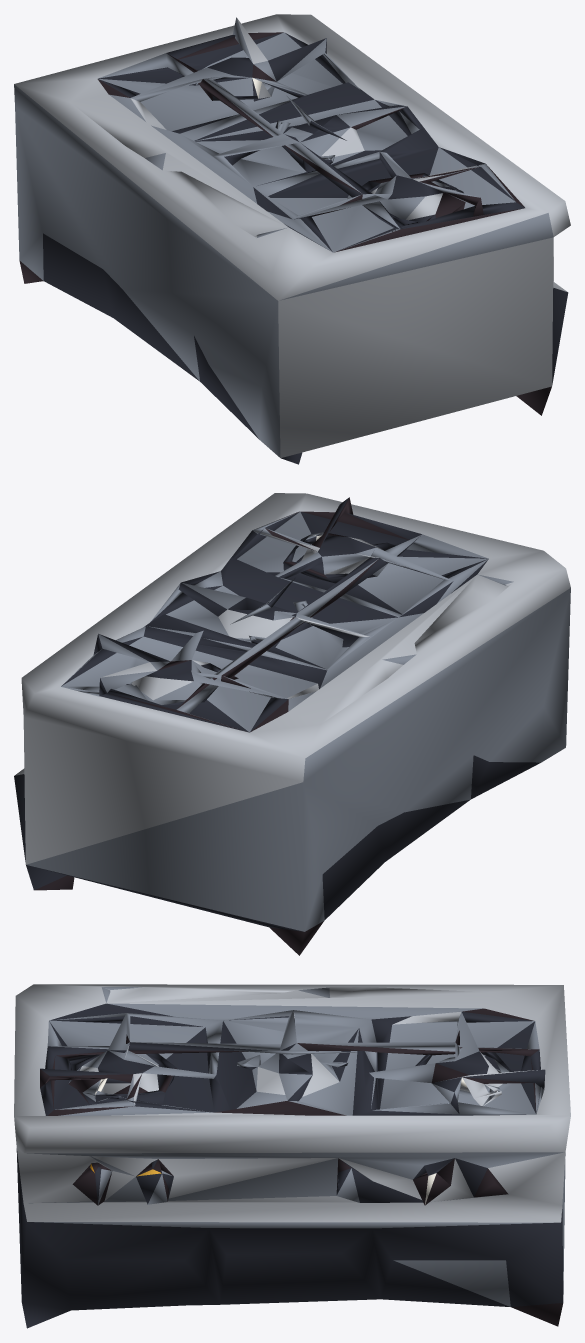
The model's file is SM_griddle_stove.fbx.
The picture shows the model from 3 angles, top to bottom: view 1: azimuth 30°, elevation 25°; view 2: azimuth 150°, elevation 25°; view 3: azimuth 270°, elevation 25°; orthographic projection. The views are drawn at different scales.
Visible parts, largest first — view 1: SM_griddle_stove; view 2: SM_griddle_stove; view 3: SM_griddle_stove.
Part boxes in pixels (x1,y1,x2,y2): SM_griddle_stove: (14, 14, 570, 464); SM_griddle_stove: (14, 493, 570, 955); SM_griddle_stove: (14, 984, 570, 1328).
Size of the model in its own units: 69.65 by 50 by 108.
1 material, 1 textured.
